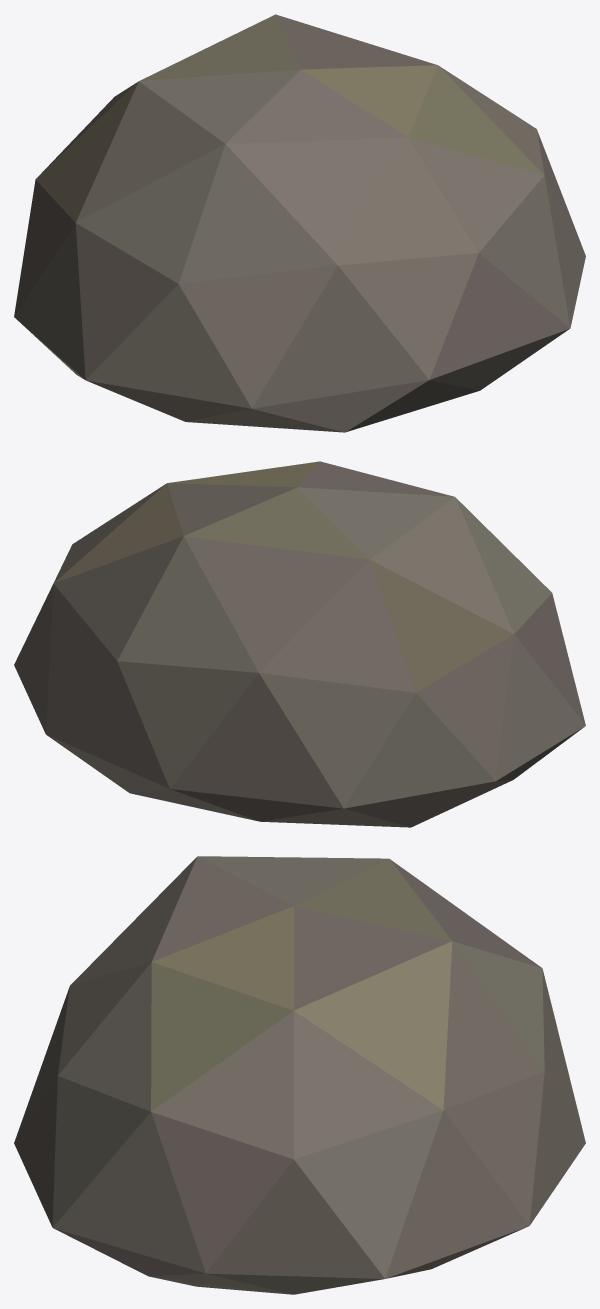
Rendered from env_kopje_a.glb.
The picture shows the model from 3 angles, top to bottom: view 1: azimuth 30°, elevation 25°; view 2: azimuth 150°, elevation 25°; view 3: azimuth 270°, elevation 25°; orthographic projection. The views are drawn at different scales.
Visible parts, largest first — view 1: env_kopje_a; view 2: env_kopje_a; view 3: env_kopje_a.
Boxes of the visible parts, x1,y1,x2,y2 form: env_kopje_a: [14, 14, 585, 432]; env_kopje_a: [14, 461, 585, 827]; env_kopje_a: [14, 856, 585, 1294].
Bounding box in the file's own units: 3.13 × 1.75 × 2.77.
